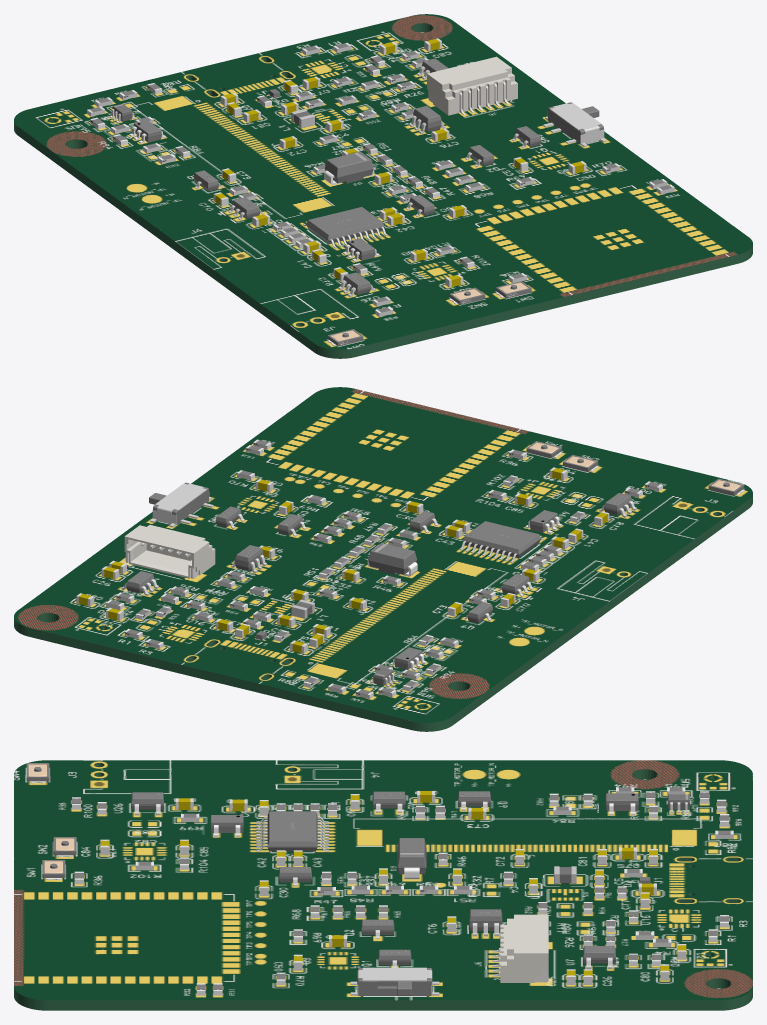
File: board.glb
3 views of the same model, one above another, from view 1: azimuth 30°, elevation 25°; view 2: azimuth 150°, elevation 25°; view 3: azimuth 270°, elevation 25° (orthographic). The views are drawn at different scales.
Visible parts, largest first — view 1: Box0, J6, U14, SW5, D3, U25; view 2: Box0, J6, U14, SW5, D3, U25; view 3: Box0, J6, U14, SW5, D3, U25, U23, U13, U7, U26, U22, Q2 (+6 smaller).
Part boxes in pixels (<box>): Box0: <box>14,14,752,358</box>; J6: <box>427,56,517,115</box>; U14: <box>303,207,387,248</box>; SW5: <box>543,102,606,146</box>; D3: <box>324,151,374,185</box>; U25: <box>409,106,445,133</box>; Box0: <box>14,387,752,731</box>; J6: <box>124,525,215,578</box>; U14: <box>459,521,544,562</box>; SW5: <box>149,482,213,527</box>; D3: <box>367,543,417,576</box>; U25: <box>231,545,266,573</box>; Box0: <box>14,760,752,1010</box>; J6: <box>492,914,548,982</box>; U14: <box>256,811,328,851</box>; SW5: <box>350,967,439,995</box>; D3: <box>397,838,426,879</box>; U25: <box>469,909,502,936</box>; U23: <box>605,793,638,815</box>; U13: <box>210,815,243,836</box>; U7: <box>583,946,615,969</box>; U26: <box>131,792,163,815</box>; U22: <box>372,791,405,812</box>; Q2: <box>361,919,394,938</box>.
Bounding box in the file's own units: 50.56 × 3.91 × 65.
Materials: 20 (2 with a texture image).
